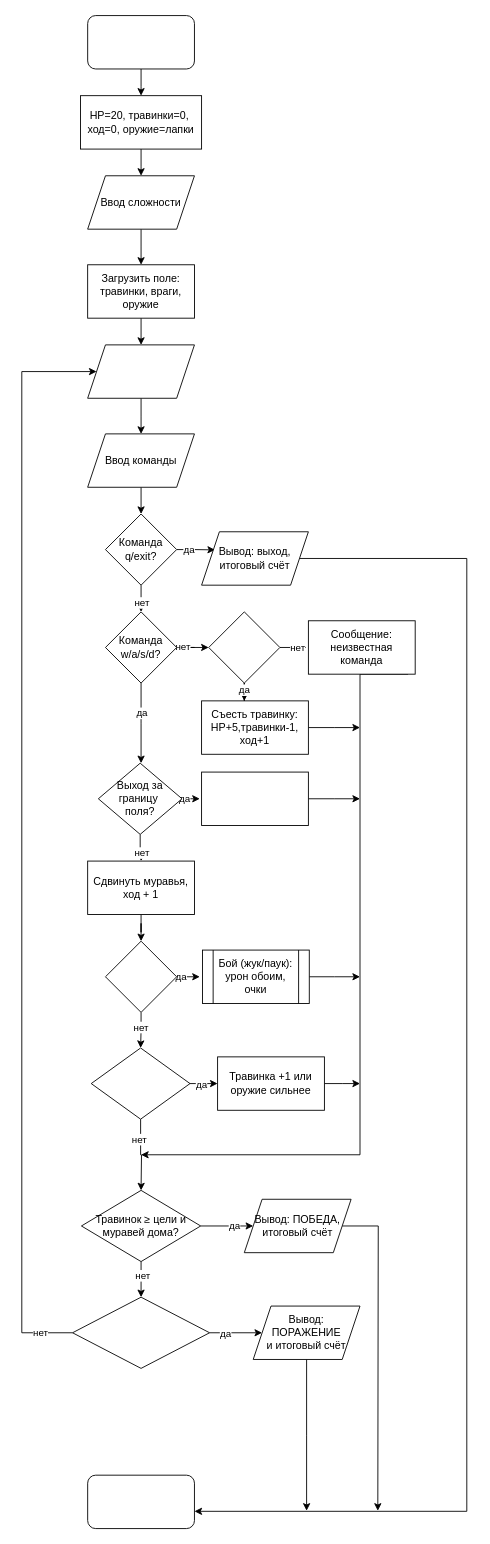
The diagram is 490 pixels wide and 1544 high, and some of its shapes have lost their labels. The shapes that lost their labels are listed below. From the top down, each one's centre as x and y in pixels, then its label:
point 140,42: Пуск
point 140,371: Вывод поля и строки состояния
point 244,647: Команда h?
point 254,798: Сообщение: край луга
point 141,976: В клетке враг?
point 140,1083: В клетке травинка или оружие?
point 141,1332: HP ≤ 0 или ход ≥ лимита?
point 140,1501: Стоп
